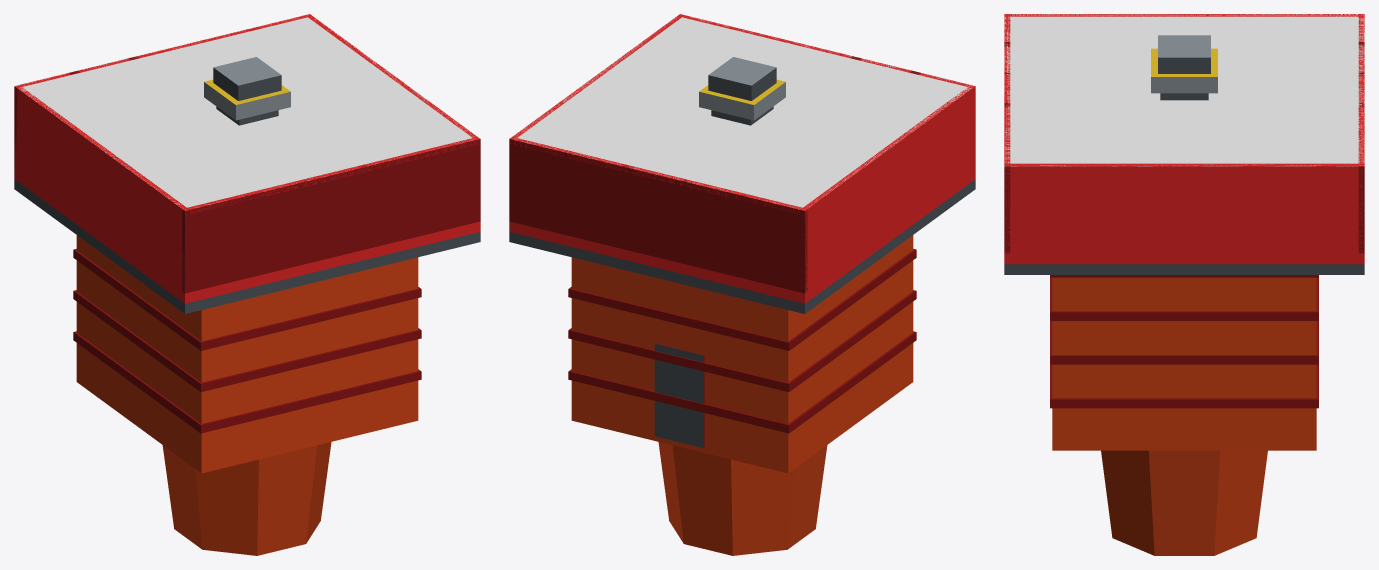
The model's file is radar_base.obj.
3 views of the same model, side by side, from view 1: azimuth 30°, elevation 25°; view 2: azimuth 150°, elevation 25°; view 3: azimuth 270°, elevation 25° (orthographic). The views are drawn at different scales.
Parts seen in each view (by area): view 1: mesh; view 2: mesh; view 3: mesh.
Part boxes in pixels (bbox=[...]): mesh: bbox=[14, 14, 480, 555]; mesh: bbox=[509, 14, 975, 555]; mesh: bbox=[1004, 14, 1364, 555].
Size of the model in its own units: 3 by 4.4 by 3.
